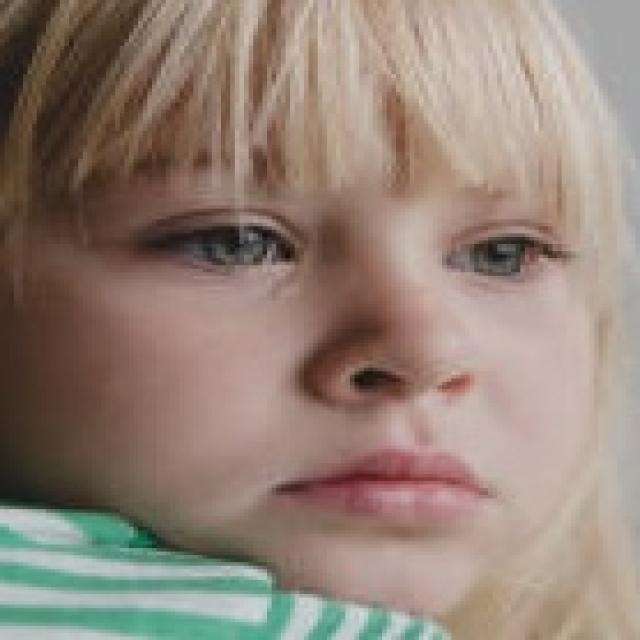Anxiety: (2, 84, 605, 620)
